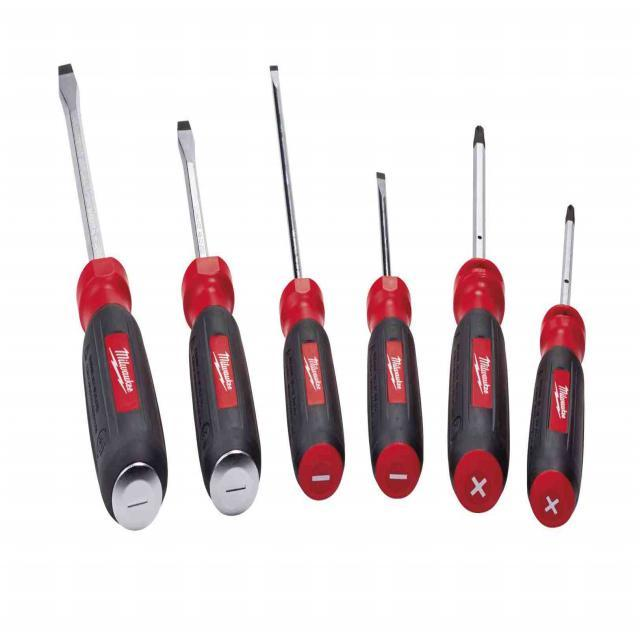screwdriver: (47, 53, 171, 540), (265, 59, 348, 506), (174, 112, 262, 520), (442, 123, 512, 516), (360, 167, 426, 503), (522, 198, 587, 532)
